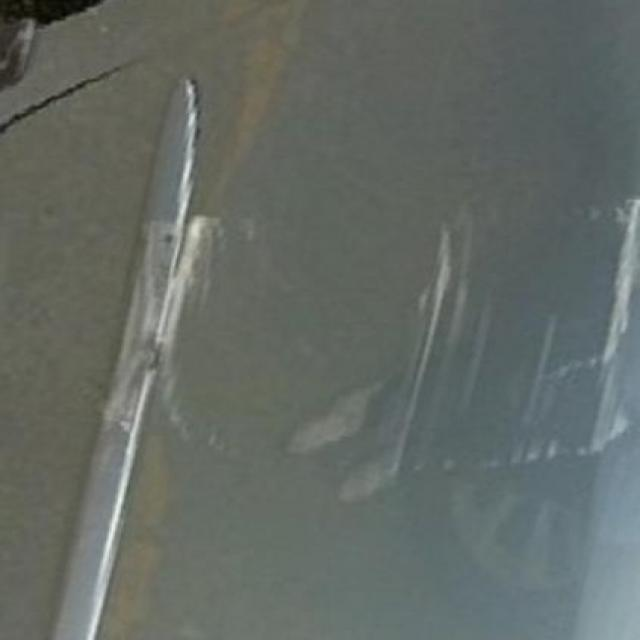scratch: (102, 172, 633, 530)
